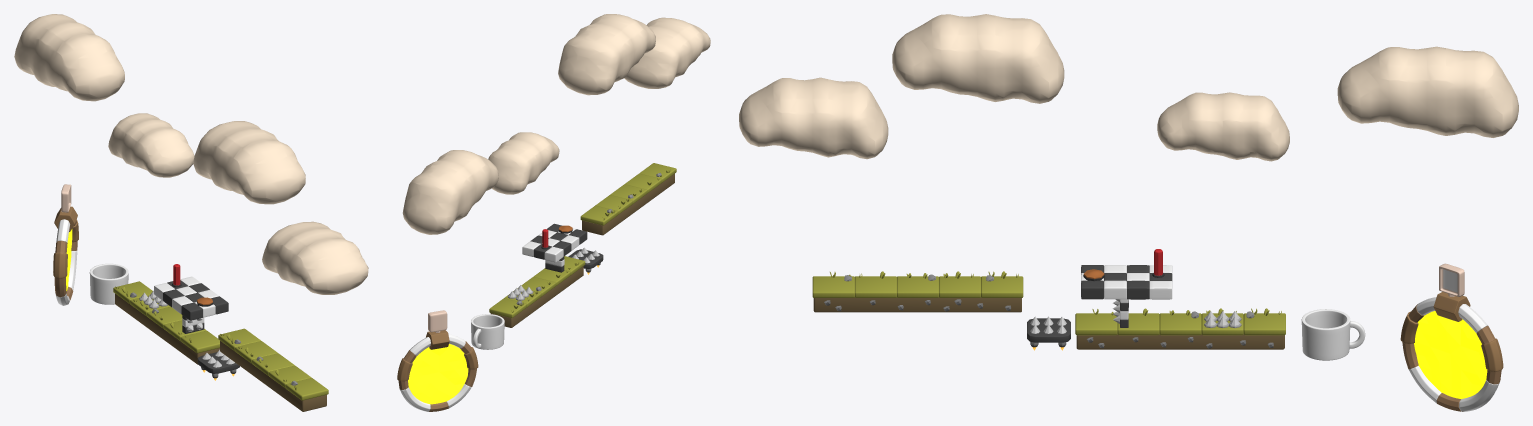
The model's file is asset.fbx.
The picture shows the model from 3 angles, left to right: view 1: azimuth 30°, elevation 25°; view 2: azimuth 150°, elevation 25°; view 3: azimuth 270°, elevation 25°; orthographic projection. The views are drawn at different scales.
Visible parts, largest first — view 1: clouds.003, clouds.001, clouds.002, clouds, grass, grass2, Mug, dirt1.001, dirt2, hoop_part2, hoop_part1, Plane; view 2: clouds.001, clouds.003, clouds.002, clouds, portal, grass, grass2, Mug, hoop_part2, dirt1.001, hoop_part1, dirt2 (+2 smaller); view 3: clouds.003, clouds.001, clouds.002, clouds, portal, grass, grass2, dirt2, dirt1.001, Mug, hoop_part2, hoop_part1 (+3 smaller).
Part boxes in pixels (box(x1,y1,x2,y2)): clouds.003: box(14, 14, 124, 101); clouds.001: box(193, 121, 305, 204); clouds.002: box(262, 221, 368, 294); clouds: box(108, 113, 194, 177); grass: box(218, 328, 328, 400); grass2: box(113, 281, 219, 353); Mug: box(89, 263, 128, 304); dirt1.001: box(220, 341, 326, 411); dirt2: box(115, 293, 219, 364); hoop_part2: box(53, 219, 78, 300); hoop_part1: box(55, 219, 77, 305); Plane: box(197, 352, 239, 373); clouds.001: box(558, 14, 655, 95); clouds.003: box(402, 150, 498, 234); clouds.002: box(624, 17, 710, 88); clouds: box(488, 132, 559, 194); portal: box(408, 344, 468, 404); grass: box(580, 163, 676, 225); grass2: box(489, 256, 585, 317); Mug: box(471, 314, 504, 349); hoop_part2: box(397, 341, 478, 411); dirt1.001: box(582, 173, 674, 235); hoop_part1: box(400, 334, 471, 411); dirt2: box(490, 266, 583, 327); clouds.003: box(1337, 46, 1518, 137); clouds.001: box(892, 14, 1064, 103); clouds.002: box(739, 77, 888, 159); clouds: box(1157, 92, 1289, 161); portal: box(1414, 311, 1487, 399); grass: box(812, 276, 1023, 297); grass2: box(1075, 313, 1285, 335); dirt2: box(1076, 334, 1284, 349); dirt1.001: box(813, 297, 1021, 312); Mug: box(1301, 309, 1365, 360); hoop_part2: box(1400, 304, 1503, 411); hoop_part1: box(1409, 297, 1499, 411).
Size of the model in its own units: 1.5 by 6.43 by 11.82.
